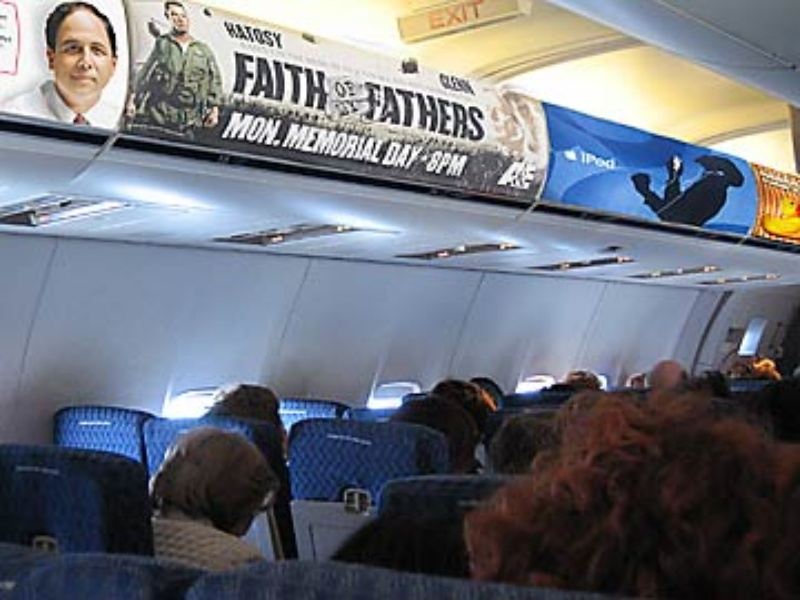close_bin: (126, 1, 543, 210), (543, 102, 754, 240), (1, 3, 121, 129), (751, 161, 800, 243)
